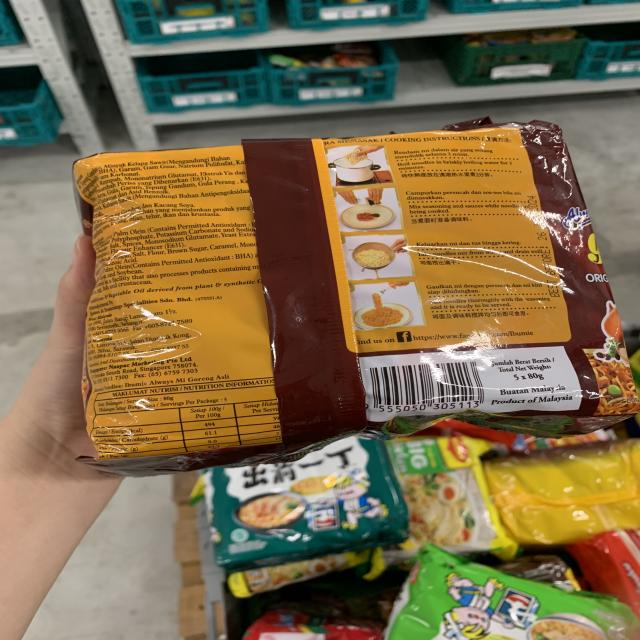object_name: (90, 152, 608, 439)
